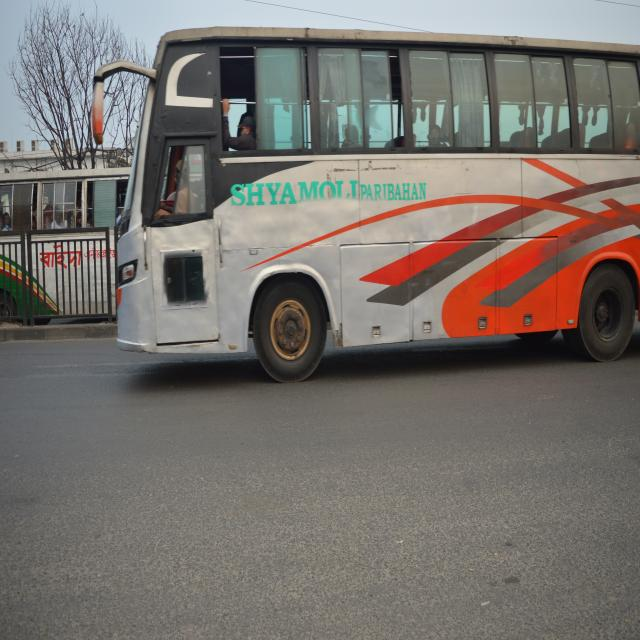bus: (86, 6, 640, 388), (0, 149, 124, 342)
